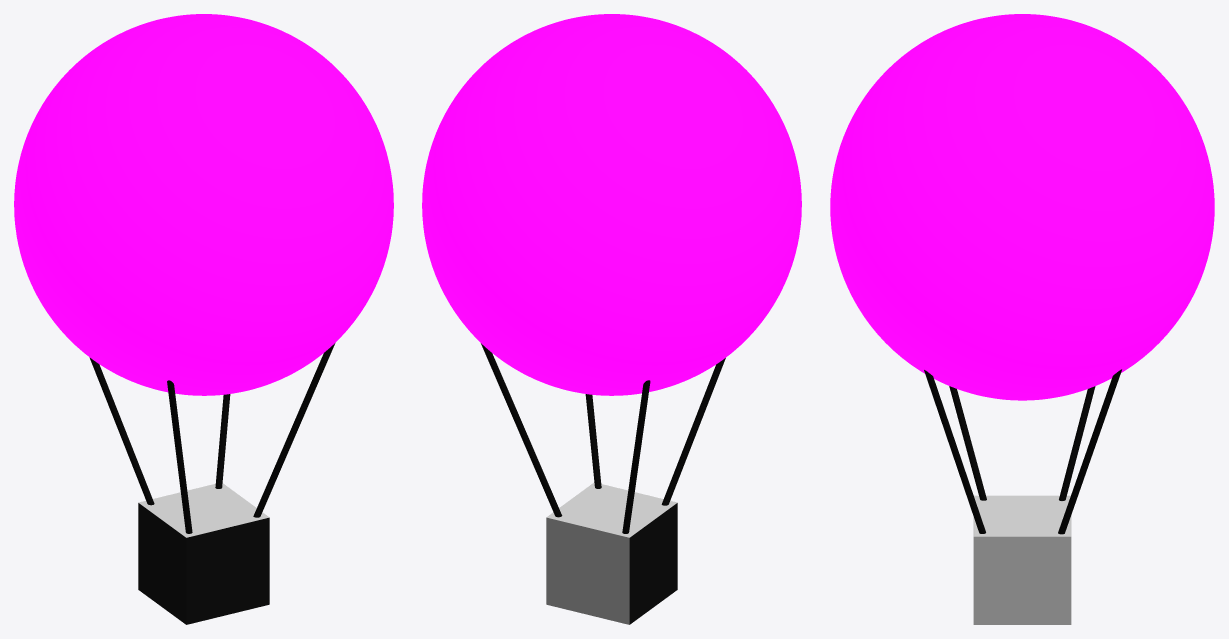
The model's file is balloon_2.glb.
3 renders of one model, left to right at view 1: azimuth 30°, elevation 25°; view 2: azimuth 150°, elevation 25°; view 3: azimuth 270°, elevation 25°, orthographic.
Parts seen in each view (by area): view 1: 球体, 立方体, 柱体.001, 柱体.003, 柱体.002, 柱体.004; view 2: 球体, 立方体, 柱体.004, 柱体.002, 柱体.003, 柱体.001; view 3: 球体, 立方体, 柱体.004, 柱体.001, 柱体.002, 柱体.003.
Part boxes in pixels (box(x1,y1,x2,y2)): 球体: box(14, 14, 393, 395); 立方体: box(138, 483, 269, 624); 柱体.001: box(253, 343, 335, 517); 柱体.003: box(89, 357, 154, 505); 柱体.002: box(167, 380, 192, 533); 柱体.004: box(215, 394, 230, 488); 球体: box(422, 14, 801, 395); 立方体: box(546, 482, 677, 624); 柱体.004: box(481, 343, 562, 517); 柱体.002: box(661, 358, 725, 505); 柱体.003: box(622, 380, 650, 533); 柱体.001: box(585, 394, 601, 488); 球体: box(830, 14, 1214, 400); 立方体: box(973, 495, 1071, 624); 柱体.004: box(1058, 369, 1121, 534); 柱体.001: box(924, 370, 985, 533); 柱体.002: box(949, 386, 986, 500); 柱体.003: box(1059, 386, 1095, 500).
Size of the model in its own units: 7.9 by 12.99 by 7.9.
Materials: 4 (1 with a texture image).
